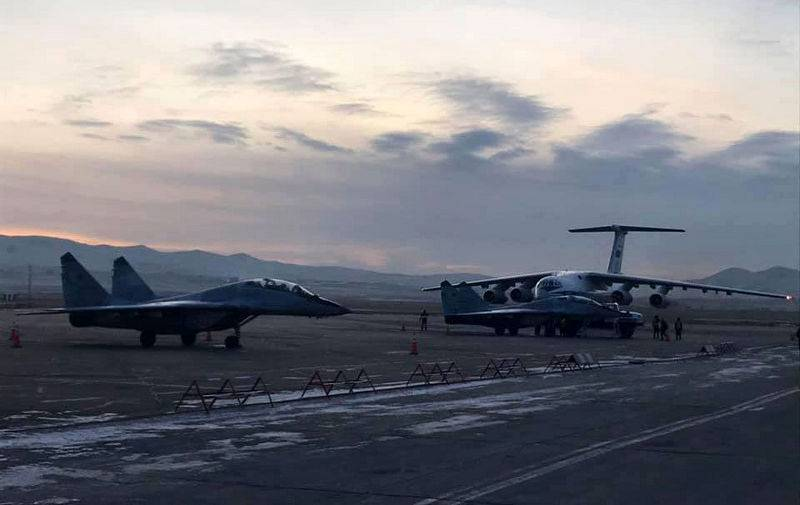Mig-29: (35, 236, 365, 364), (438, 274, 634, 346)
